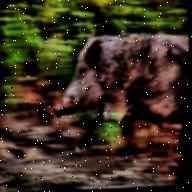boar: (52, 12, 191, 161)
